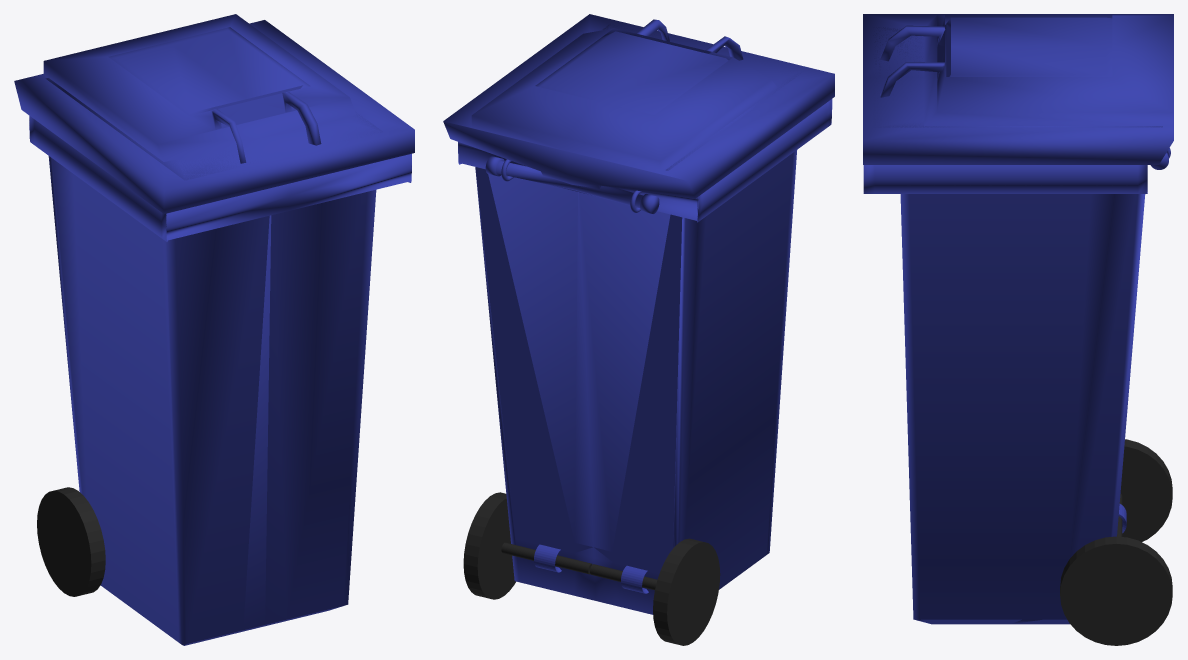
Rendered from caneca2.glb.
3 renders of one model, left to right at view 1: azimuth 30°, elevation 25°; view 2: azimuth 150°, elevation 25°; view 3: azimuth 270°, elevation 25°, orthographic. The views are drawn at different scales.
Visible parts, largest first — view 1: Plane, Plane.001, Cylinder; view 2: Plane, Plane.001, Cylinder, Cylinder.002, Cylinder.001; view 3: Plane, Plane.001, Cylinder.002, Cylinder.
Part boxes in pixels (x1=…): Plane: x1=29, y1=116, x2=411, y2=645; Plane.001: x1=14, y1=14, x2=414, y2=213; Cylinder: x1=37, y1=487, x2=105, y2=596; Plane: x1=458, y1=99, x2=832, y2=614; Plane.001: x1=443, y1=14, x2=834, y2=213; Cylinder: x1=590, y1=538, x2=720, y2=645; Cylinder.002: x1=463, y1=492, x2=592, y2=599; Cylinder.001: x1=534, y1=544, x2=648, y2=593; Plane: x1=863, y1=165, x2=1147, y2=624; Plane.001: x1=863, y1=14, x2=1173, y2=169; Cylinder.002: x1=1060, y1=536, x2=1172, y2=645; Cylinder: x1=1117, y1=439, x2=1172, y2=541.
Size of the model in its own units: 1.97 by 3.96 by 2.04.
